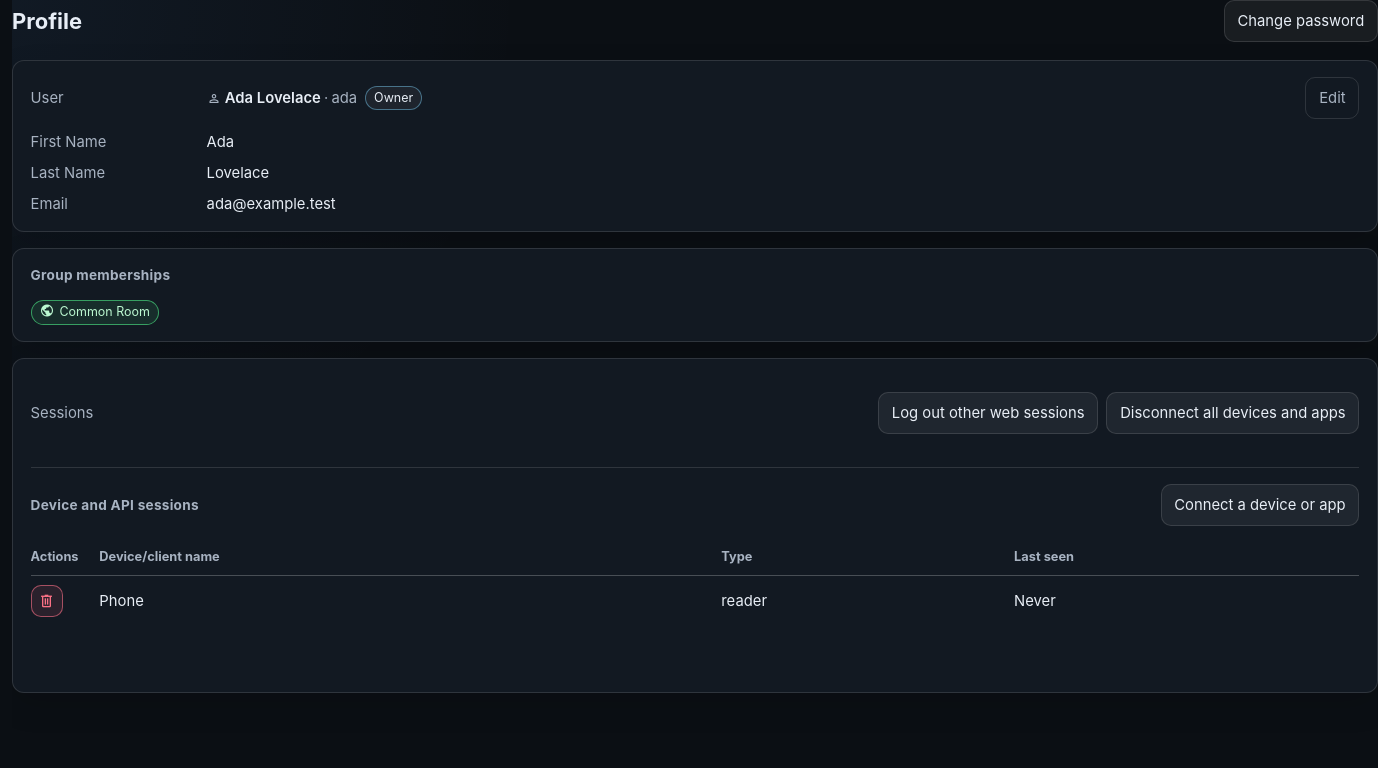
Test: ProfileOrchestrator account sessions › does not falsely clear devices when bulk disconnection fails
Click the button "Disconnect all devices and apps": (1233, 413) x1=1106 y1=392 x2=1359 y2=434
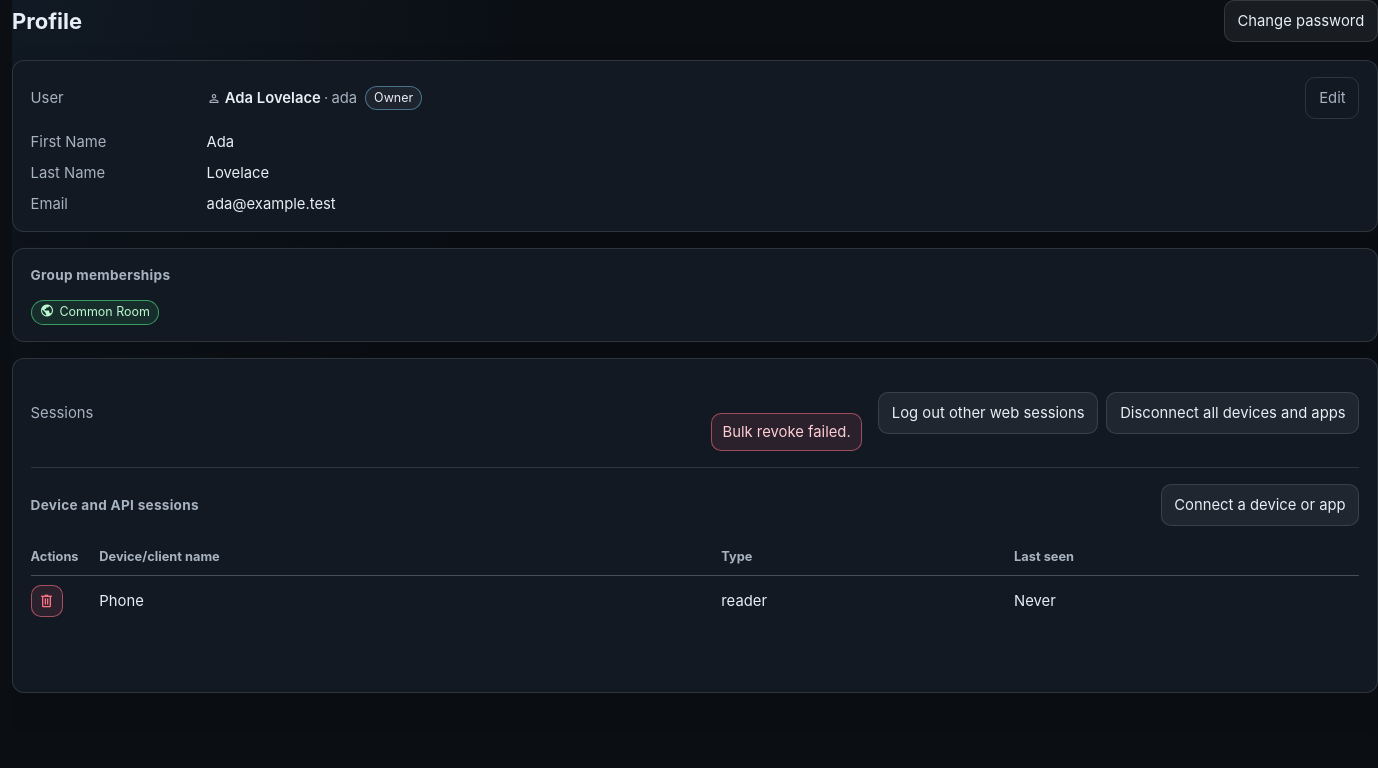
Expected: the button named "Revoke Phone" is shown, x1=31 y1=585 x2=63 y2=617
Expected: the message "Bulk revoke failed." is shown, x1=711 y1=413 x2=862 y2=452
